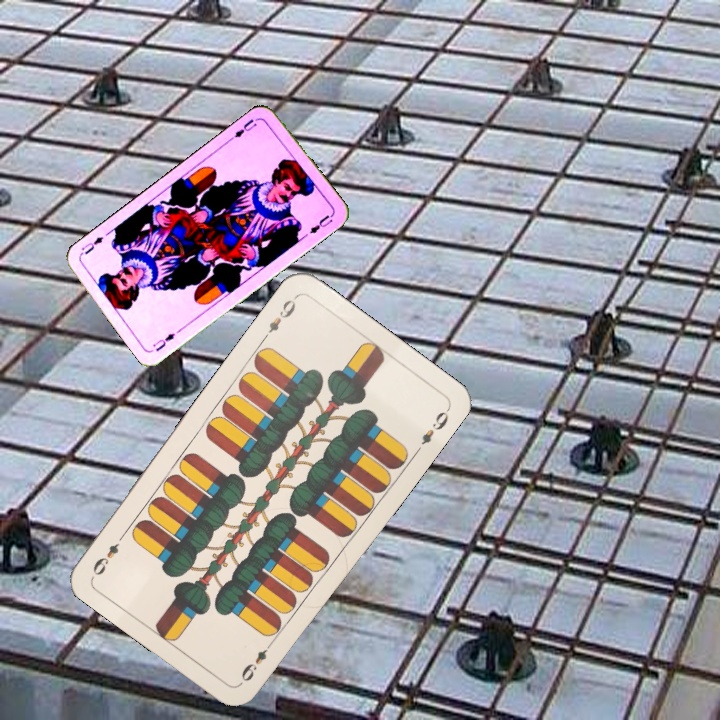E9: (236, 635, 277, 687), (259, 292, 300, 343)
EU: (226, 115, 259, 143), (149, 329, 178, 354)
